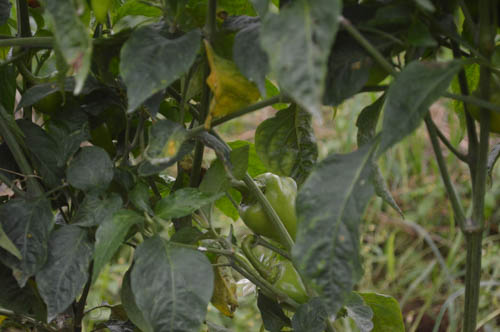ChiliPepper: (239, 175, 308, 246), (272, 263, 306, 304)
